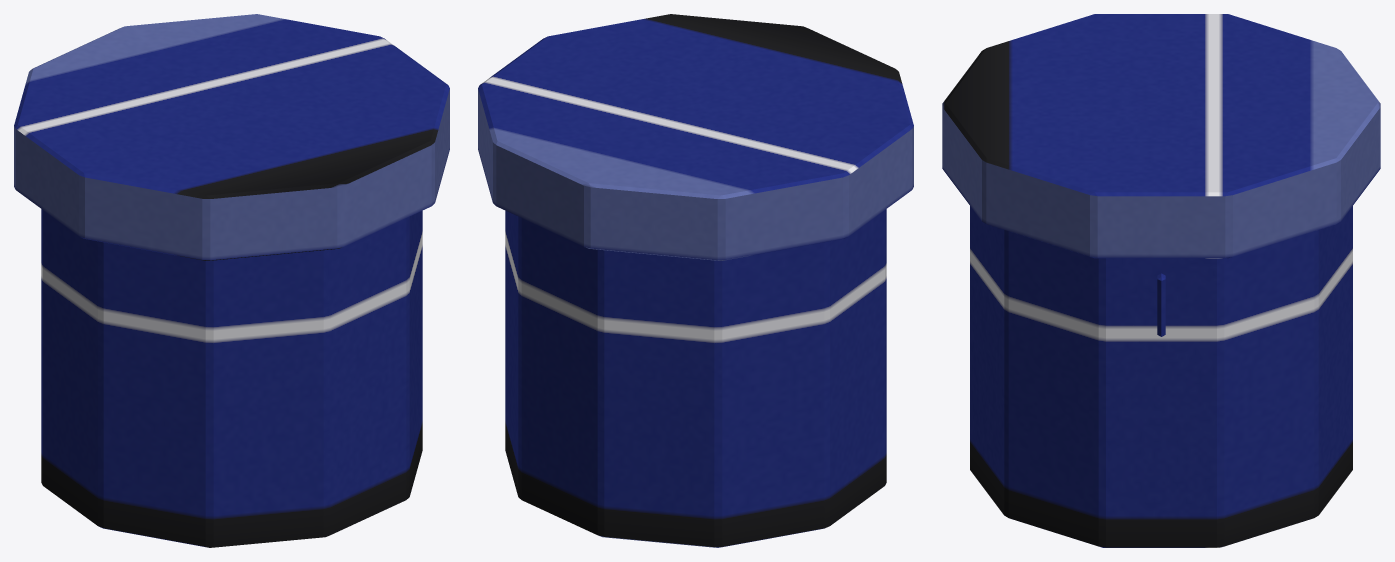
File: Pen.glb
3 views of the same model, side by side, from view 1: azimuth 30°, elevation 25°; view 2: azimuth 150°, elevation 25°; view 3: azimuth 270°, elevation 25° (orthographic).
Visible parts, largest first — view 1: Pen; view 2: Pen; view 3: Pen.
Boxes of the visible parts, <box> form: Pen: <box>14,14,449,547</box>; Pen: <box>478,14,913,547</box>; Pen: <box>942,14,1380,547</box>.
Size of the model in its own units: 1 by 1 by 1.
1 material, 1 textured.
